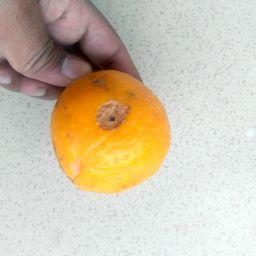Unripe: (51, 67, 174, 191)
